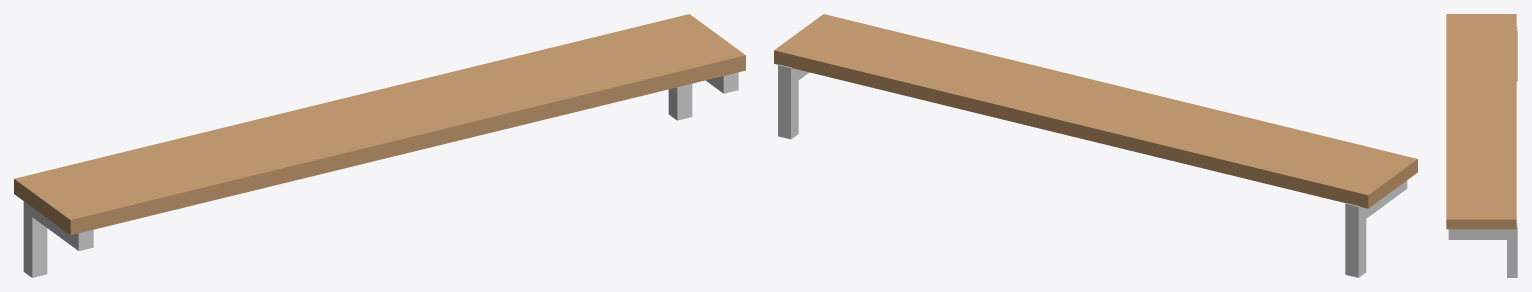
The model's file is meja.fbx.
The picture shows the model from 3 angles, left to right: view 1: azimuth 30°, elevation 25°; view 2: azimuth 150°, elevation 25°; view 3: azimuth 270°, elevation 25°; orthographic projection. The views are drawn at different scales.
Visible parts, largest first — view 1: Cube.002, Cube.007; view 2: Cube.002, Cube.007; view 3: Cube.002, Cube.007.
Boxes of the visible parts, box(x1,y1,x2,y2) form: Cube.002: box(14, 14, 745, 235); Cube.007: box(23, 72, 738, 277); Cube.002: box(774, 14, 1417, 208); Cube.007: box(778, 64, 1407, 277); Cube.002: box(1446, 14, 1516, 229); Cube.007: box(1448, 26, 1517, 277).
Size of the model in its own units: 2018 by 274 by 296.
